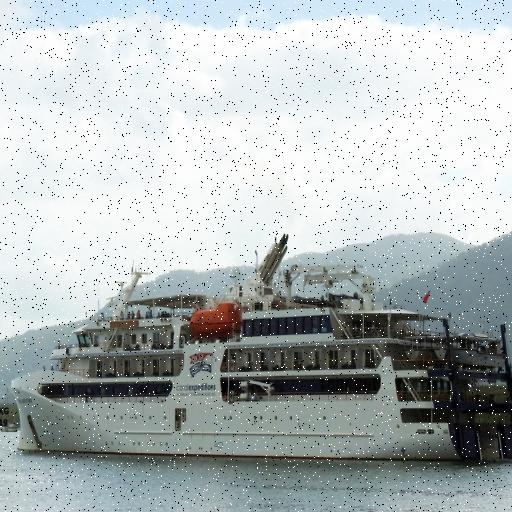cruises: (10, 238, 512, 476)
